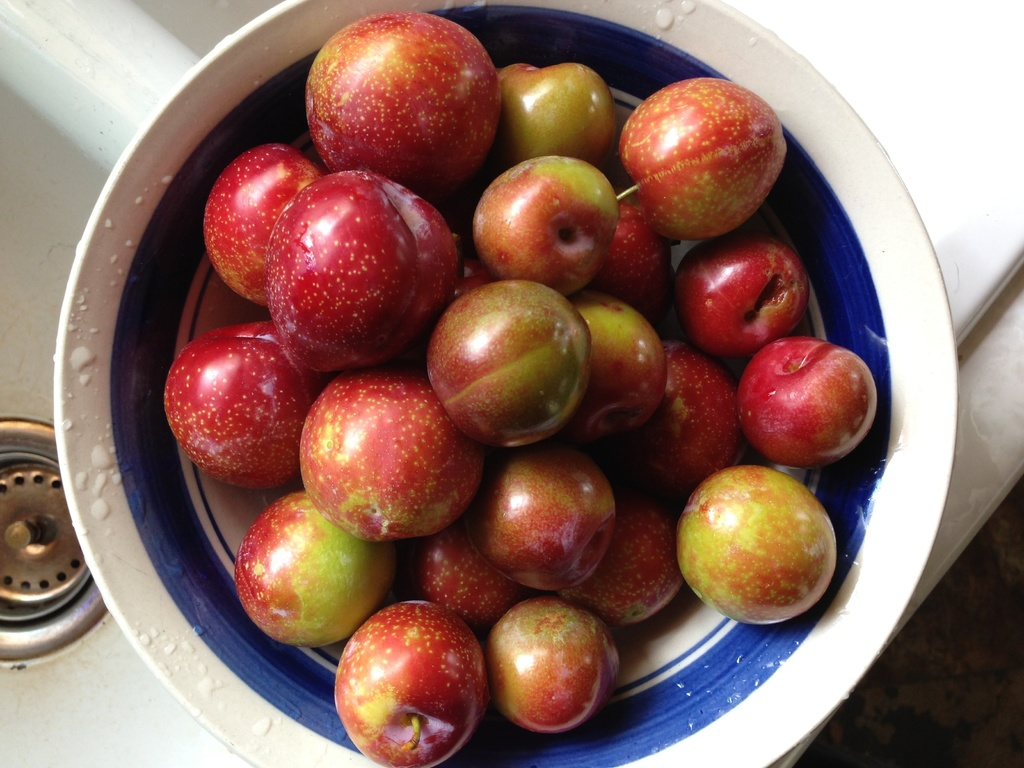Apple: (162, 6, 880, 767), (667, 464, 835, 622)
